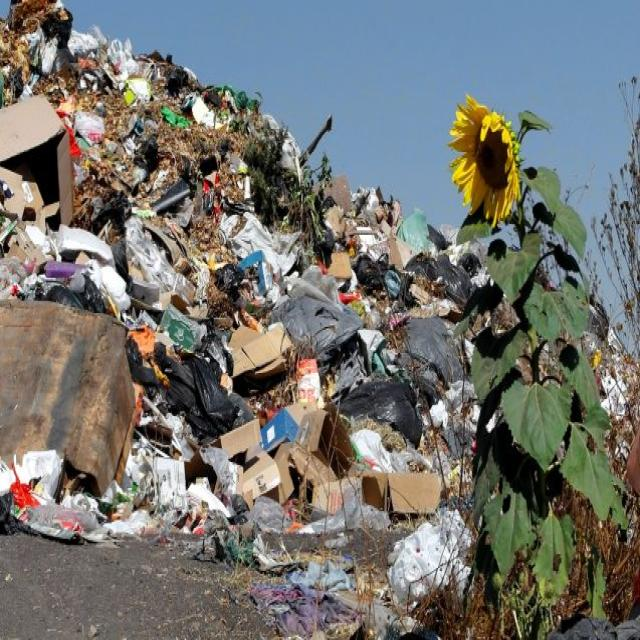garbage: (0, 0, 501, 635)
